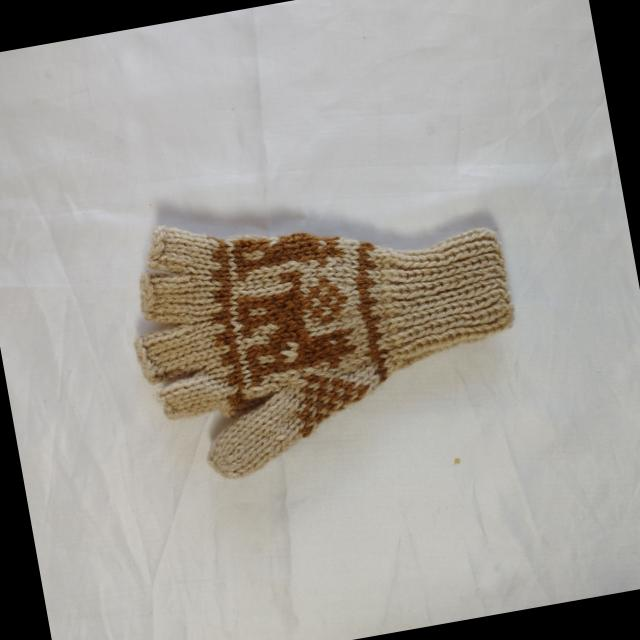Guante: (112, 165, 536, 492)
